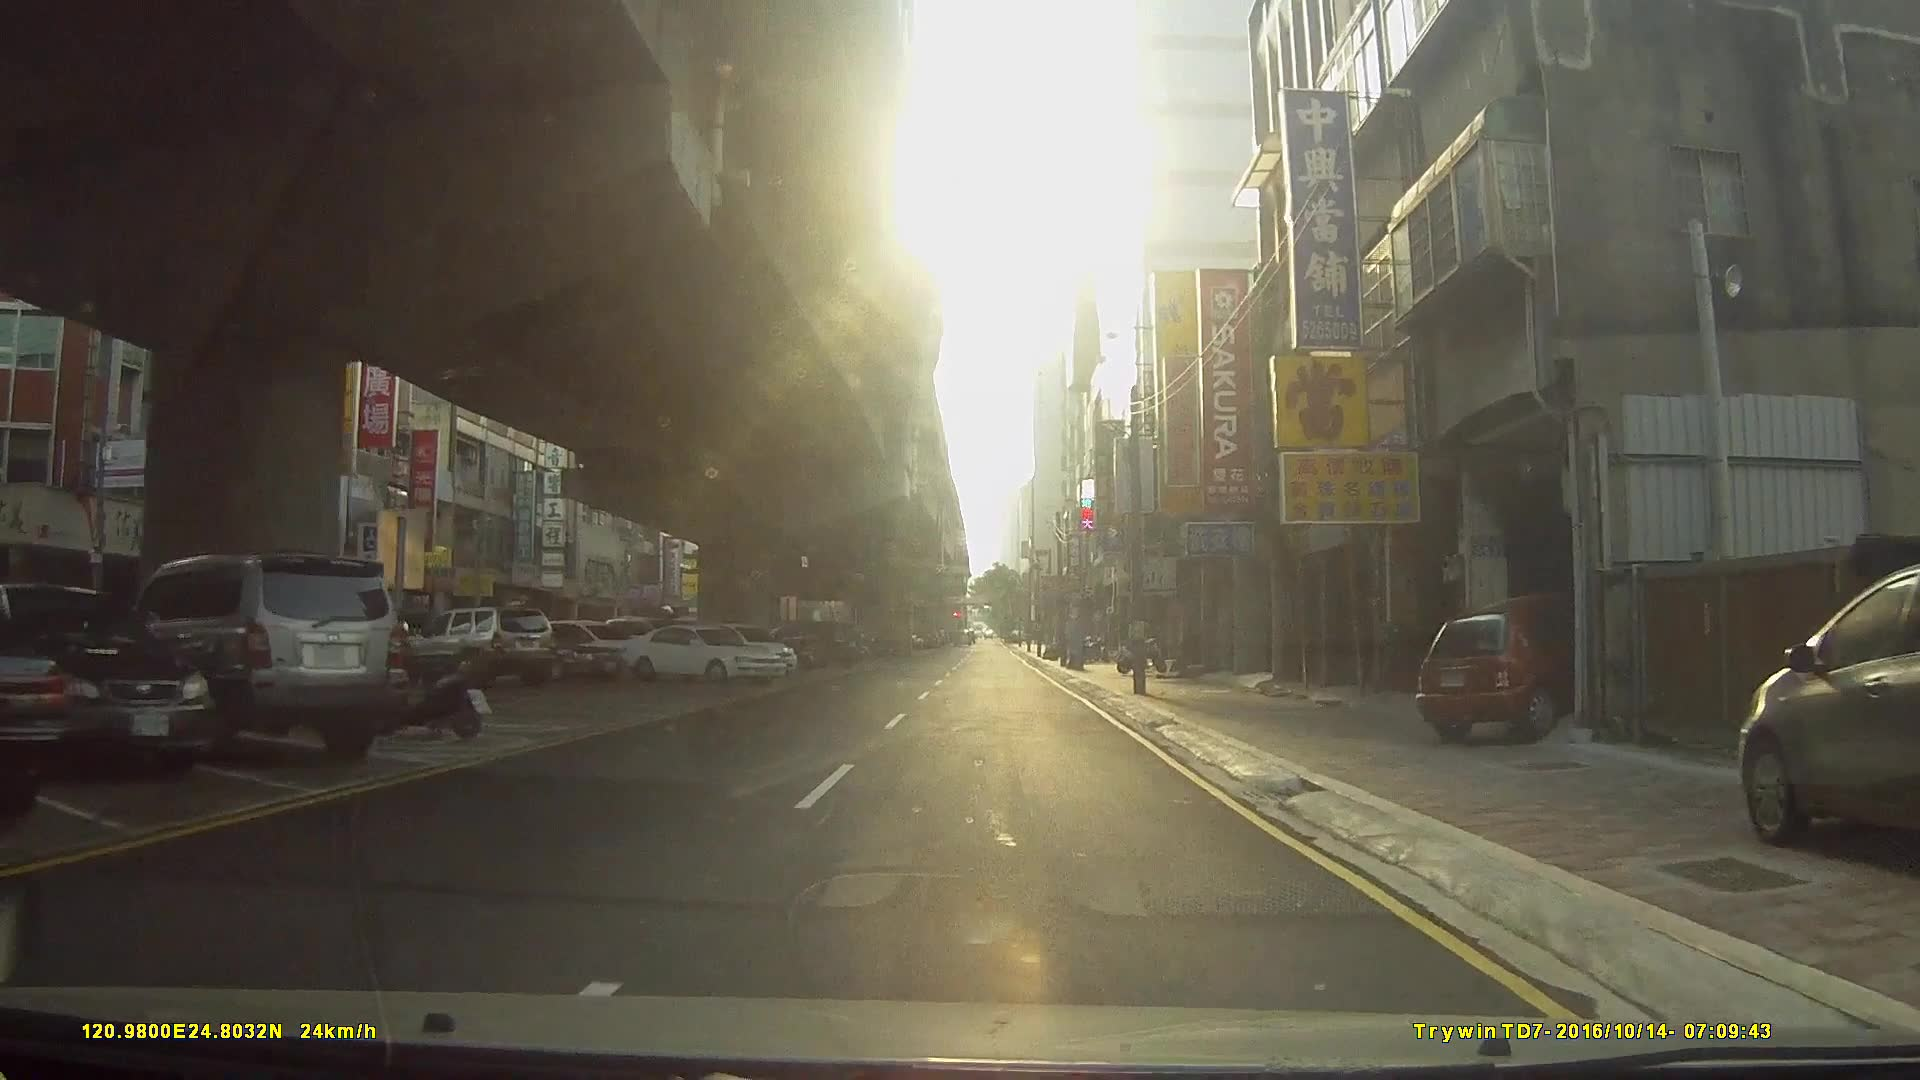vehicle: (94, 553, 407, 760), (1735, 564, 1920, 847), (0, 580, 216, 777), (1416, 592, 1611, 742), (0, 609, 70, 819), (402, 603, 554, 682), (454, 620, 620, 684), (621, 622, 789, 683)
